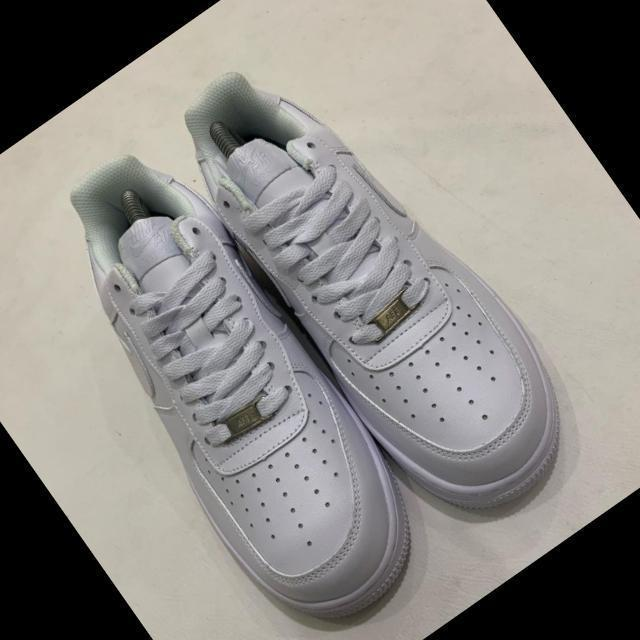nike fake air force: (145, 0, 612, 548), (0, 120, 453, 640)
